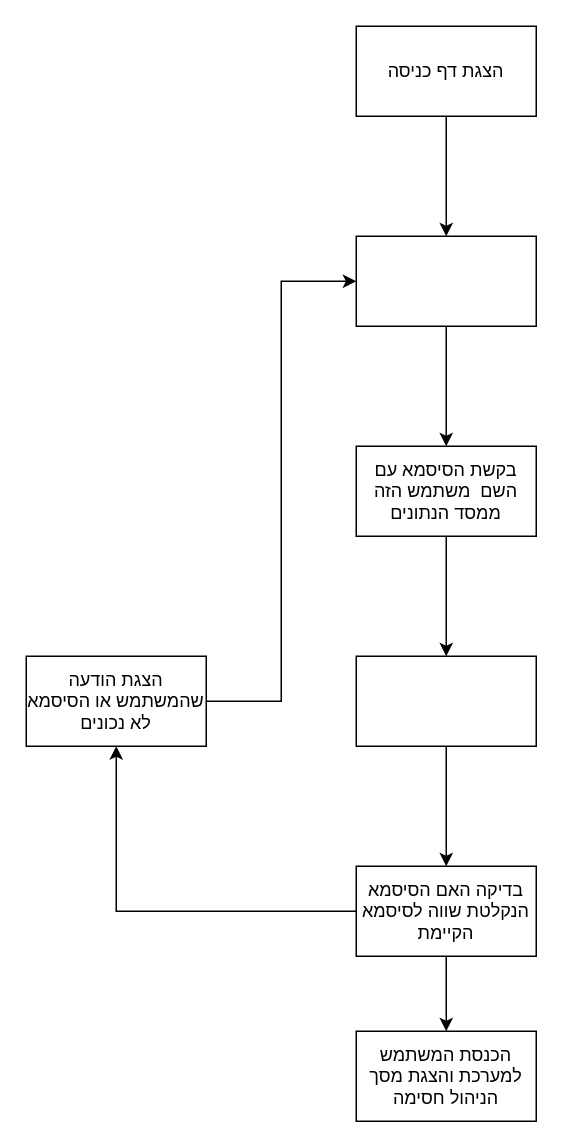
Image size: 563x1148. Some labels were removed from this diagram. Here are the shapes that lost their labels. From the top down, the centre of each, then its label:
the point at 445,280: קליטת שם משתמש וסיסמא
the point at 445,700: הצפנת הסיסמא שנקלטה
